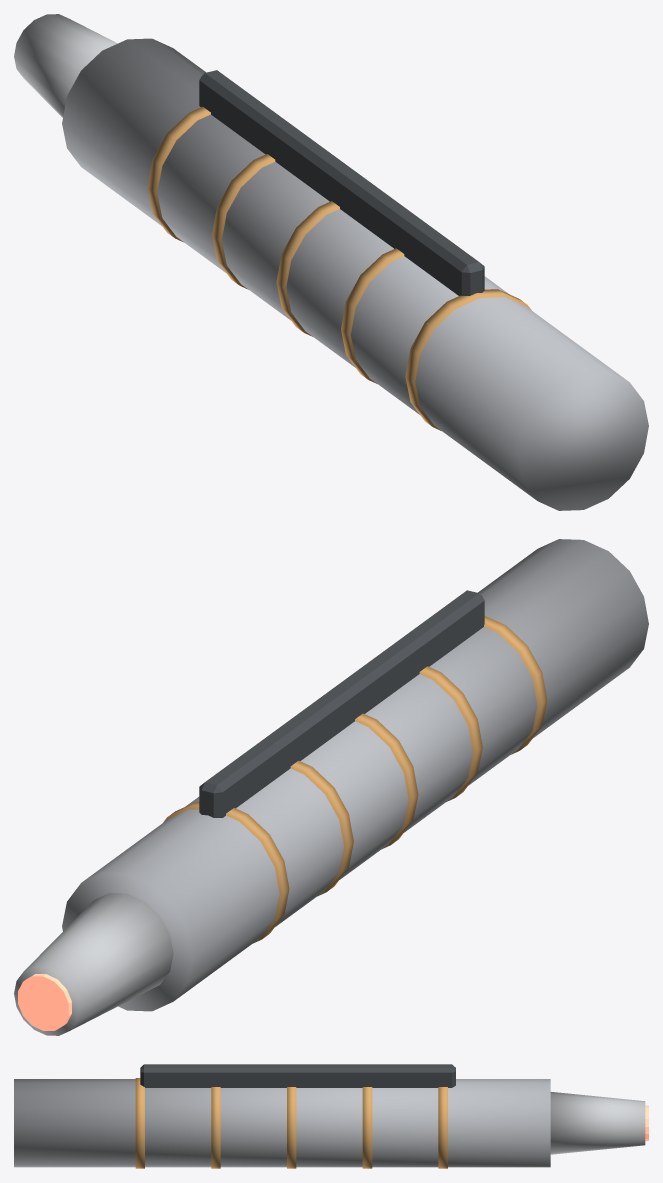
Rendered from jet_laser_mg.glb.
3 views of the same model, one above another, from view 1: azimuth 30°, elevation 25°; view 2: azimuth 150°, elevation 25°; view 3: azimuth 270°, elevation 25° (orthographic). The views are drawn at different scales.
Parts seen in each view (by area): view 1: Jet_laser_mg; view 2: Jet_laser_mg; view 3: Jet_laser_mg.
Boxes of the visible parts, box(x1,y1,x2,y2) form: Jet_laser_mg: box(14, 14, 648, 510); Jet_laser_mg: box(14, 539, 648, 1035); Jet_laser_mg: box(14, 1064, 648, 1168).
Bounding box in the file's own units: 0.144 × 0.172 × 1.01.
